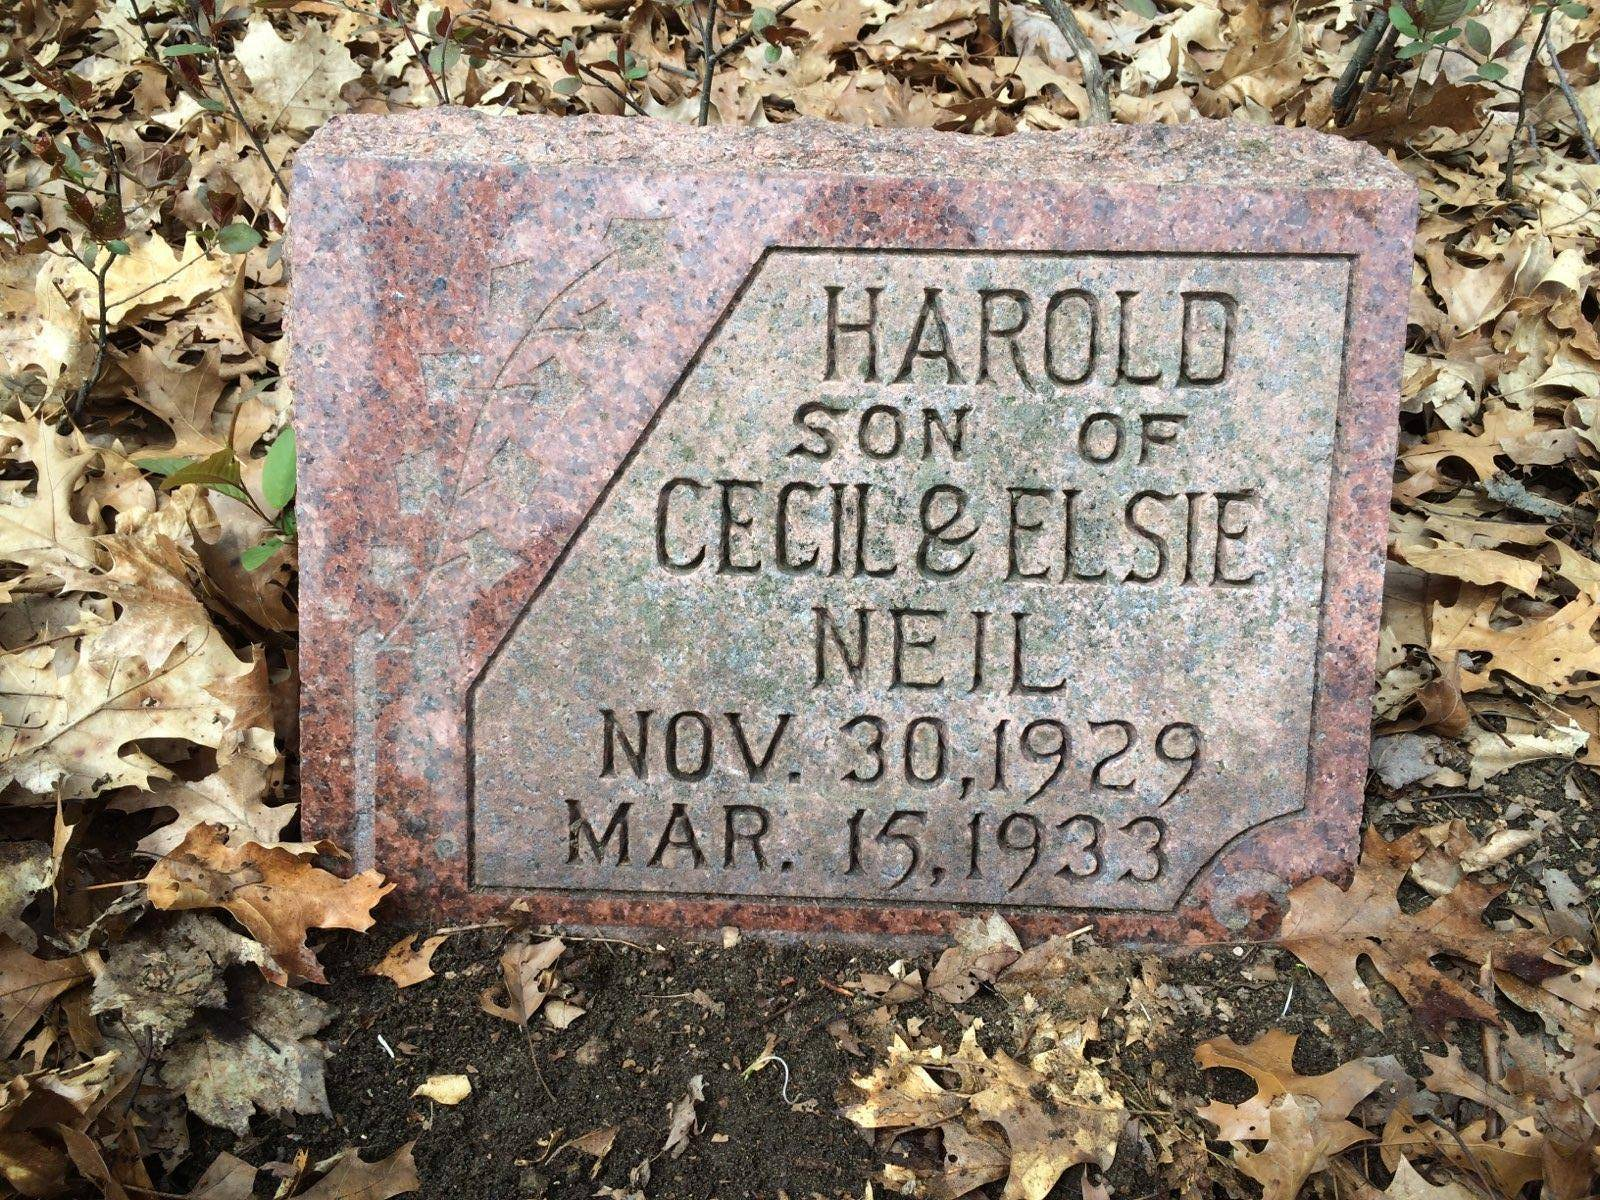flat: (282, 108, 1410, 976)
